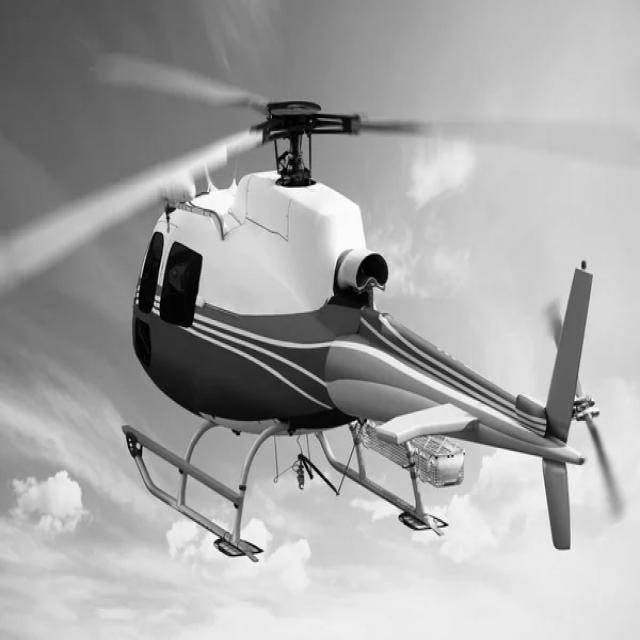Helicopter: (104, 57, 640, 564)
